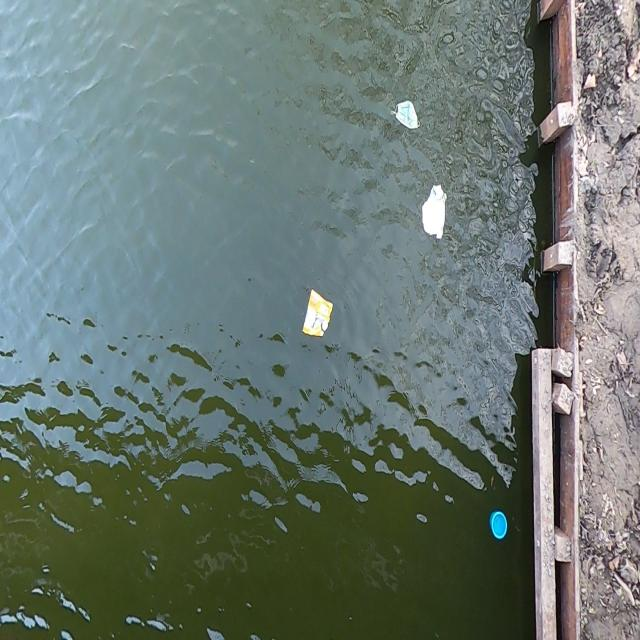Autre plastique: (300, 285, 335, 343), (488, 508, 511, 550)
Non plastique: (390, 91, 424, 134)
